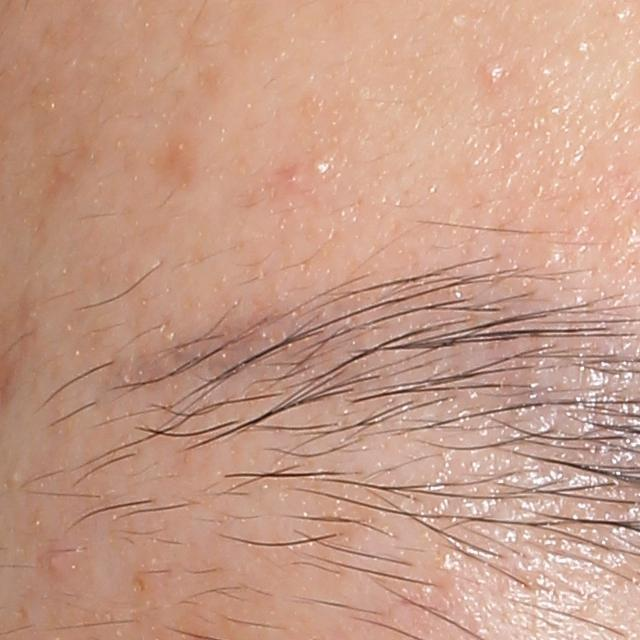comedo: (309, 152, 335, 180), (484, 58, 505, 85)
papule: (43, 546, 71, 578)
